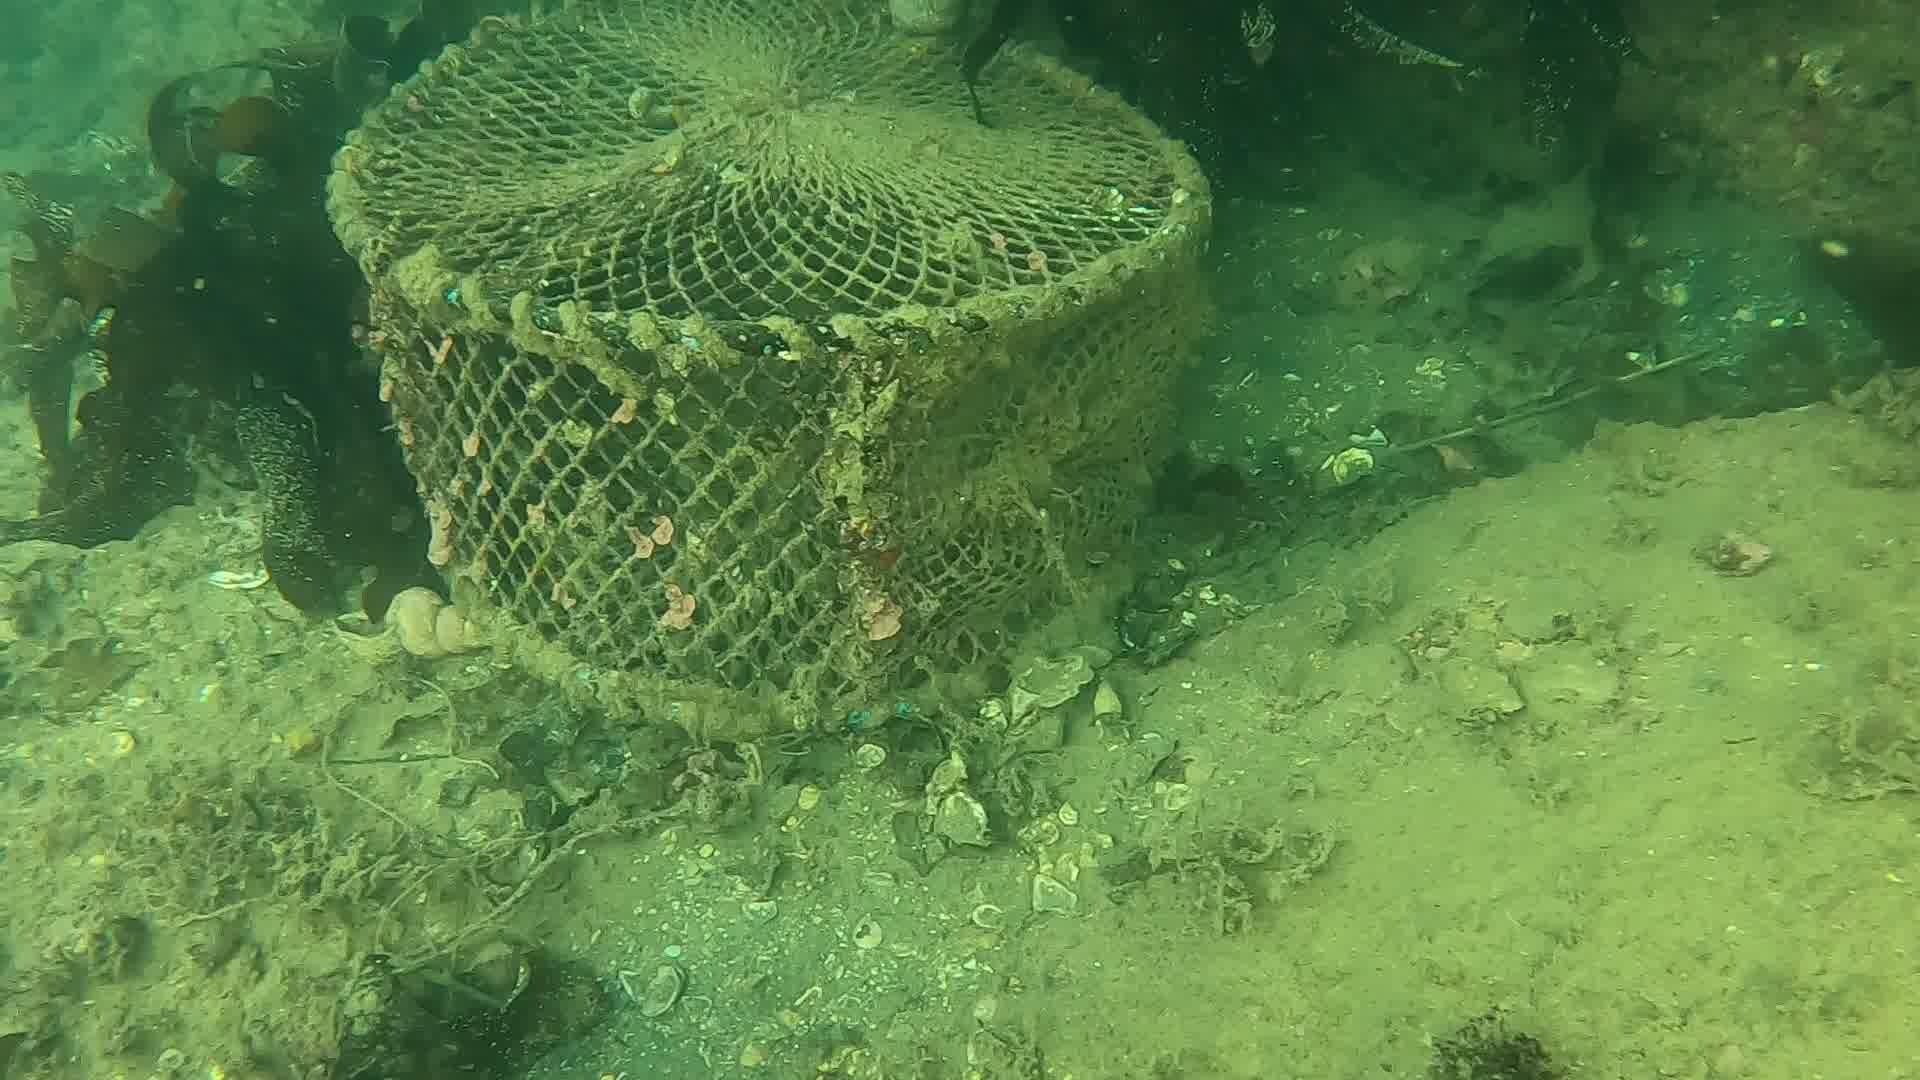circular fish trap: (326, 3, 1216, 745)
